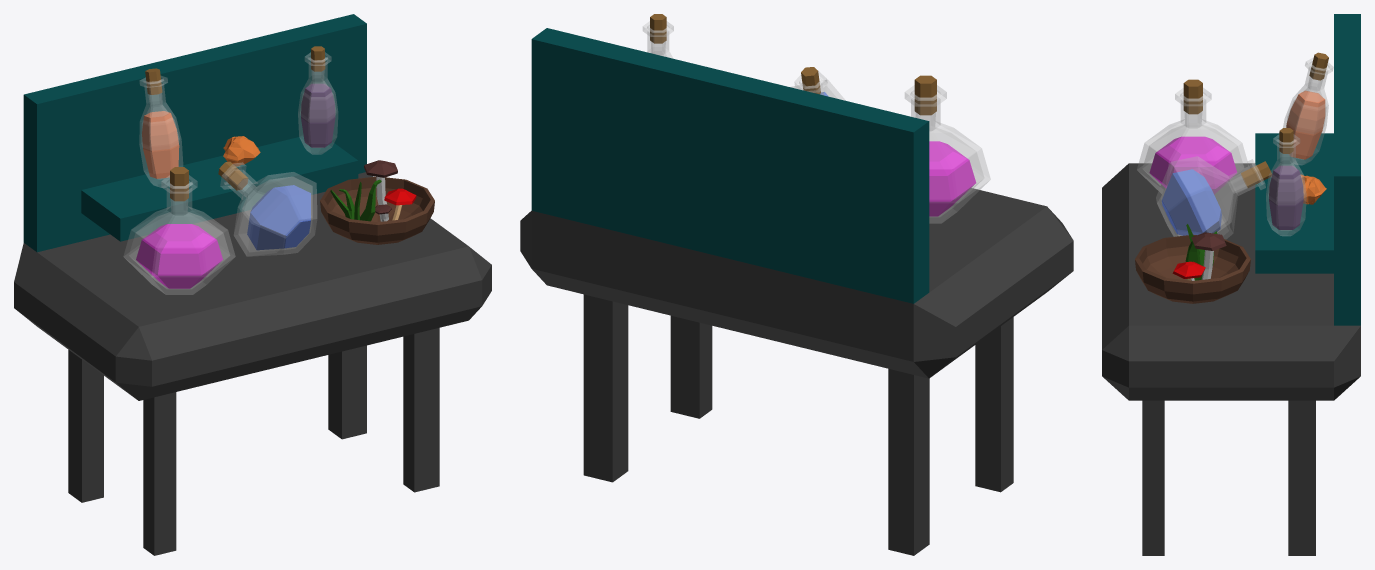
File: BrewingTable.fbx
The picture shows the model from 3 angles, left to right: view 1: azimuth 30°, elevation 25°; view 2: azimuth 150°, elevation 25°; view 3: azimuth 270°, elevation 25°; orthographic projection. The views are drawn at different scales.
Parts seen in each view (by area): view 1: Bottle1; view 2: Bottle1; view 3: Bottle1.
Boxes of the visible parts, x1=… form: Bottle1: x1=14, y1=14, x2=491, y2=555; Bottle1: x1=520, y1=14, x2=1073, y2=555; Bottle1: x1=1102, y1=14, x2=1360, y2=555.
Bounding box in the file's own units: 81.21 × 82.65 × 48.01.
